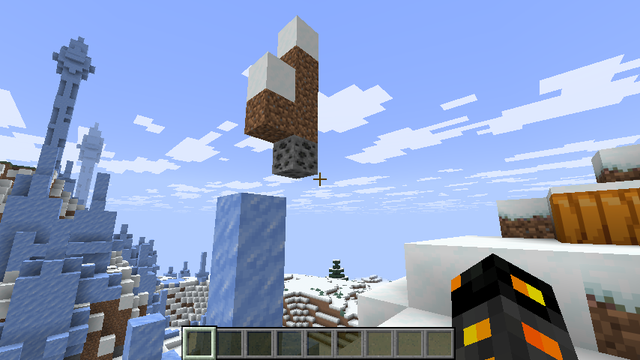coal: (273, 135, 317, 177)
